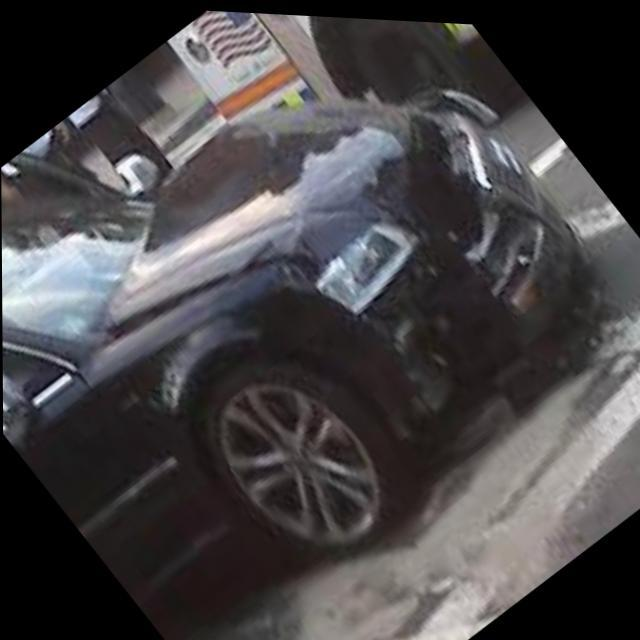dislocated part: (255, 99, 556, 431)
